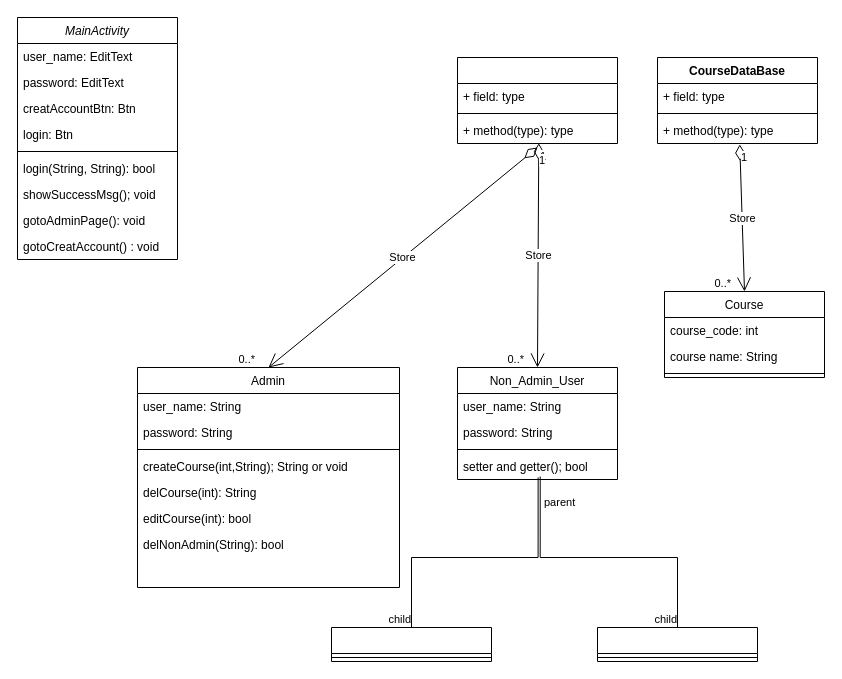
Image size: 842x679. Some labels were removed from this diagram. Here are the shapes that lost their labels. From the top down, the box of each, then its label:
(456, 56, 618, 144): AccountDataBase
(330, 626, 492, 662): Instructor
(596, 626, 758, 662): Student
